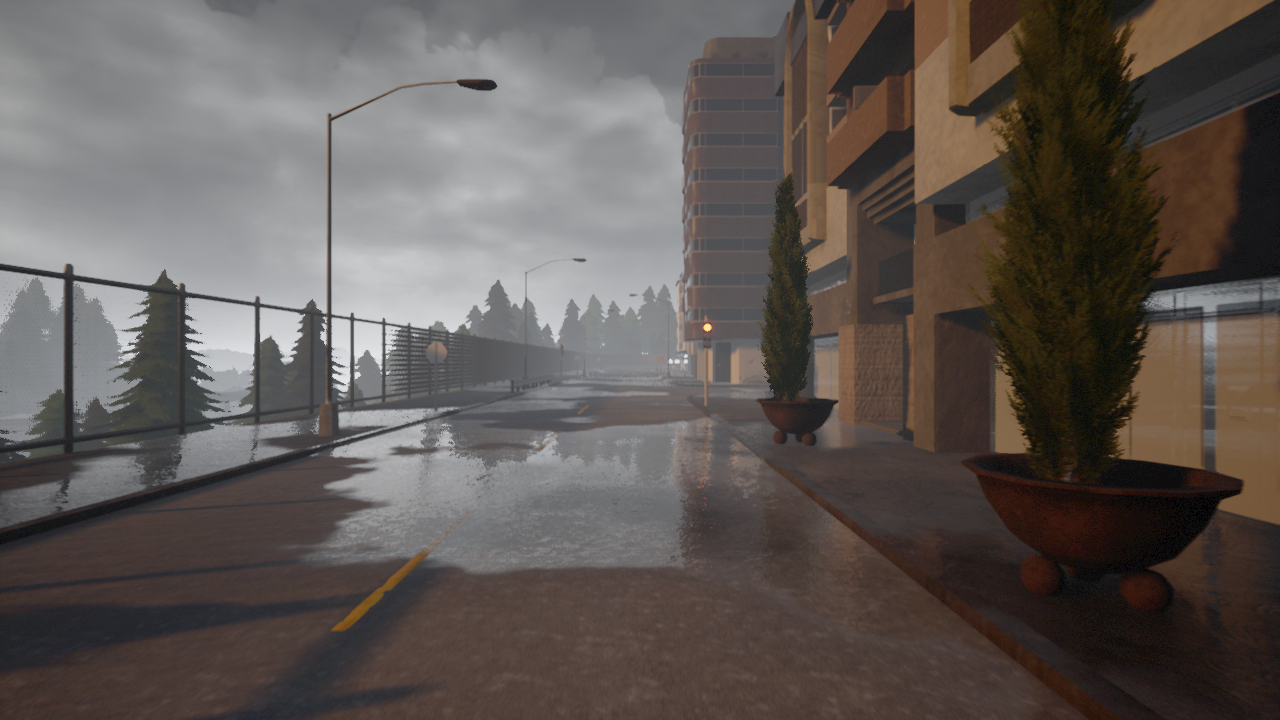red: (702, 322, 713, 352)
